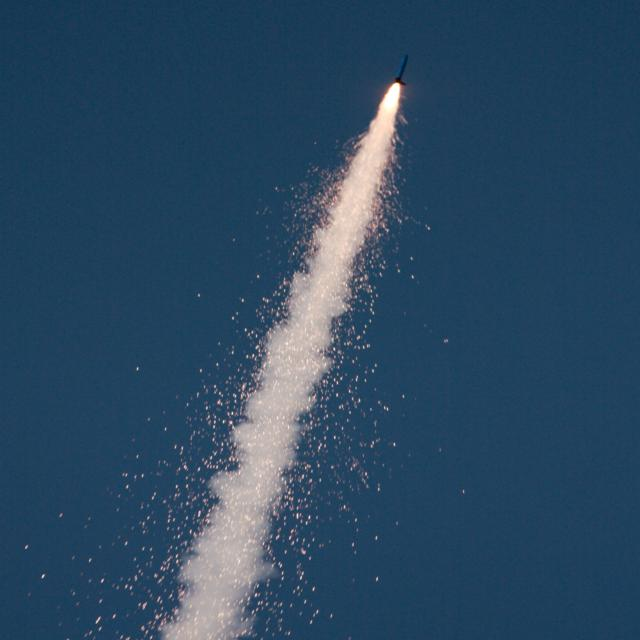Rocket: (392, 54, 408, 85)
